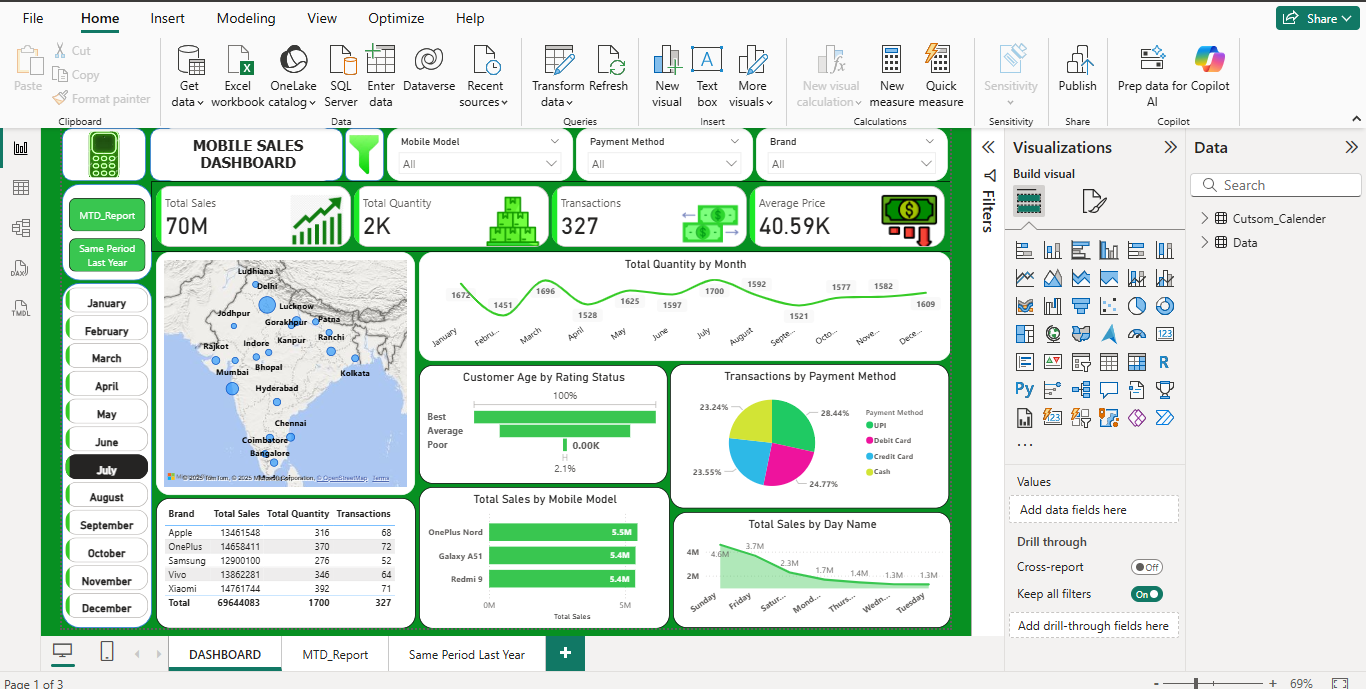

This screenshot's page, from the dashboard's own definition file:
{"tool":"powerbi","page":{"name":"DASHBOARD","canvas":[1280,720],"ordinal":0},"visuals":[{"type":"shape","box":[0,0,121,76.3],"z":0},{"type":"image","box":[0,0,121,76.3],"z":1000},{"type":"shape","box":[0,81,129.6,139],"z":2000},{"type":"shape","box":[0,223.2,129.6,496.8],"z":3000},{"type":"advancedSlicerVisual","fields":{"Values":["Cutsom_Calender.Date.Variation.Date Hierarchy.Month"]},"box":[0,224.6,129.6,495.4],"z":4000},{"type":"cardVisual","fields":{"Data":["Data.Total Sales","Data.Total Quantity","Data.Transactions","Data.Average Price"]},"box":[128.2,76.3,1152,102.2],"z":5000},{"type":"slicer","fields":{"Values":["Data.Mobile Model"]},"box":[468,0,267.8,76.3],"z":6000},{"type":"shape","box":[407,0,56.2,76.3],"z":7000},{"type":"slicer","fields":{"Values":["Data.Payment Method"]},"box":[740,0,255,76.3],"z":8000},{"type":"shape","box":[126.7,0,277.9,76.3],"z":9000},{"type":"slicer","fields":{"Values":["Data.Brand"]},"box":[1000,0,276.5,76.3],"z":10000},{"type":"image","box":[409,0,51.8,76.3],"z":11000},{"type":"textbox","box":[141.1,0,253.4,76.3],"z":12000},{"type":"map","fields":{"Category":["Data.City"],"Size":["Data.Total Sales"]},"box":[135,178,373,350],"z":13000},{"type":"lineChart","fields":{"Category":["Cutsom_Calender.Date.Variation.Date Hierarchy.Month"],"Y":["Data.Total Quantity"]},"box":[514.1,178.6,766.1,157],"z":14000},{"type":"tableEx","fields":{"Values":["Data.Brand","Data.Total Sales","Data.Total Quantity","Data.Transactions"]},"box":[135.4,532.8,374,188],"z":15000},{"type":"funnel","title":"Customer Age by Rating Status","fields":{"Category":["Data.Rating Status"],"Y":["CountNonNull(Data.Customer Age)"]},"box":[514,341,358,171],"z":16000},{"type":"pieChart","fields":{"Y":["Data.Transactions"],"Category":["Data.Payment Method"]},"box":[876,340,401.8,208],"z":17000},{"type":"clusteredBarChart","fields":{"Y":["Data.Total Sales"],"Category":["Data.Mobile Model"]},"box":[514.1,517,361.4,204.5],"z":18000},{"type":"areaChart","fields":{"Category":["Cutsom_Calender.Day Name"],"Y":["Data.Total Sales"]},"box":[879.8,553,400.3,167],"z":19000},{"type":"pageNavigator","box":[10.1,100.8,110.9,106.6],"z":20000}]}

Visuals, with their boxes on the page's 1280x720 design canvas (x1, y1, x2, y2). These are canvas units, not pixel positions in the 1366x689 screenshot, which may show the page scaled, cropped or inside an application window:
shape: (x1=0, y1=0, x2=121, y2=76)
image: (x1=0, y1=0, x2=121, y2=76)
shape: (x1=0, y1=81, x2=130, y2=220)
shape: (x1=0, y1=223, x2=130, y2=720)
advancedSlicerVisual - Cutsom_Calender.Date.Variation.Date Hierarchy.Month: (x1=0, y1=225, x2=130, y2=720)
cardVisual - Data.Total Sales x Data.Total Quantity: (x1=128, y1=76, x2=1280, y2=178)
slicer - Data.Mobile Model: (x1=468, y1=0, x2=736, y2=76)
shape: (x1=407, y1=0, x2=463, y2=76)
slicer - Data.Payment Method: (x1=740, y1=0, x2=995, y2=76)
shape: (x1=127, y1=0, x2=405, y2=76)
slicer - Data.Brand: (x1=1000, y1=0, x2=1276, y2=76)
image: (x1=409, y1=0, x2=461, y2=76)
textbox: (x1=141, y1=0, x2=394, y2=76)
map - Data.City x Data.Total Sales: (x1=135, y1=178, x2=508, y2=528)
lineChart - Cutsom_Calender.Date.Variation.Date Hierarchy.Month x Data.Total Quantity: (x1=514, y1=179, x2=1280, y2=336)
tableEx - Data.Brand x Data.Total Sales: (x1=135, y1=533, x2=509, y2=721)
"Customer Age by Rating Status" funnel: (x1=514, y1=341, x2=872, y2=512)
pieChart - Data.Transactions x Data.Payment Method: (x1=876, y1=340, x2=1278, y2=548)
clusteredBarChart - Data.Total Sales x Data.Mobile Model: (x1=514, y1=517, x2=876, y2=722)
areaChart - Cutsom_Calender.Day Name x Data.Total Sales: (x1=880, y1=553, x2=1280, y2=720)
pageNavigator: (x1=10, y1=101, x2=121, y2=207)
